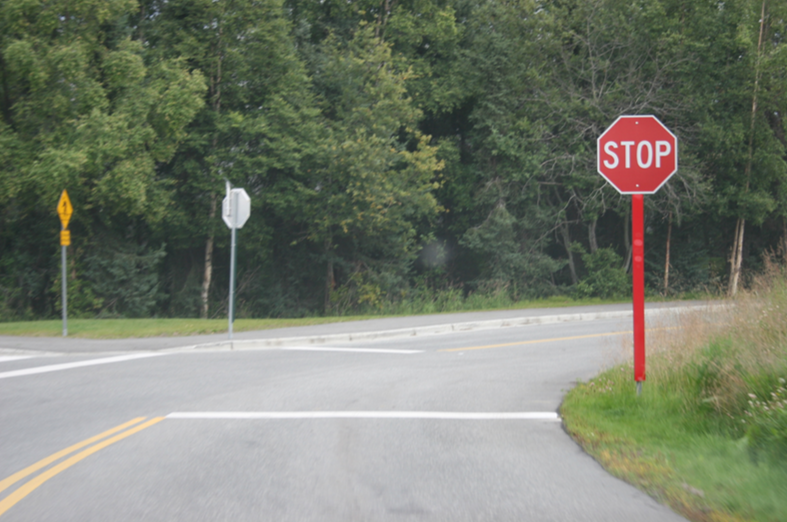stopsign: (597, 113, 679, 194)
